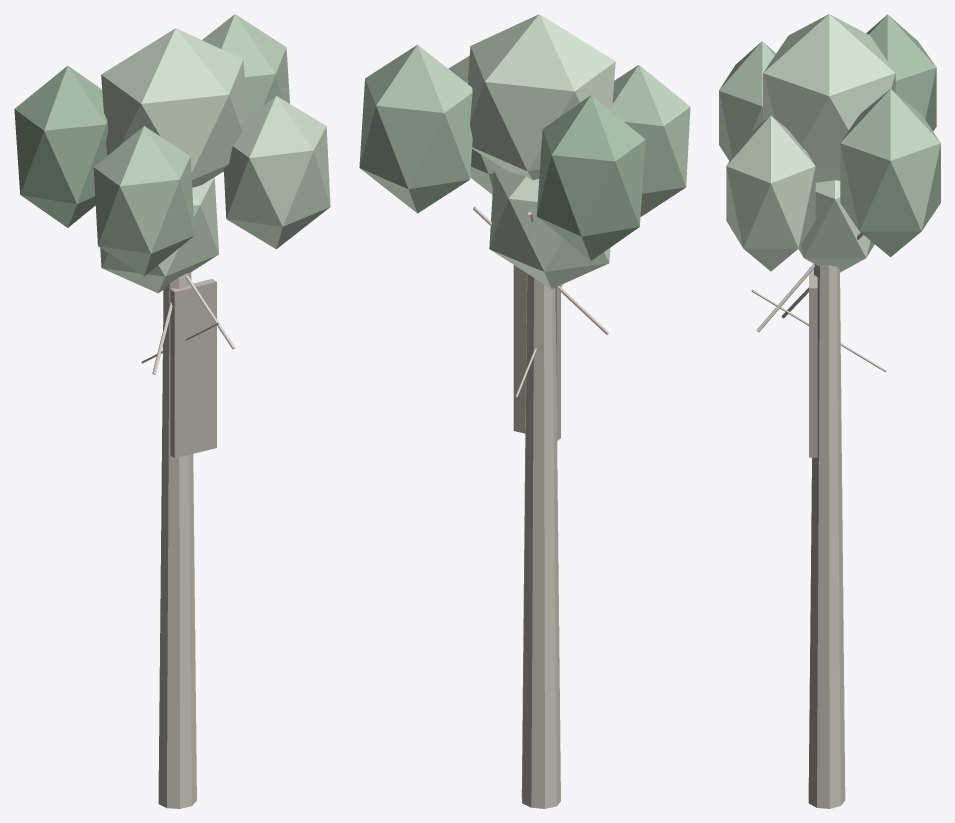
The model's file is TREE_EUCALYPTUS_001_v002_LOD_GAMEPLAY.glb.
The picture shows the model from 3 angles, left to right: view 1: azimuth 30°, elevation 25°; view 2: azimuth 150°, elevation 25°; view 3: azimuth 270°, elevation 25°; orthographic projection. The views are drawn at different scales.
Visible parts, largest first — view 1: TREE_CANOPY_CORE_TOP_002_LOD_GAMEPLAY_EXPORT, TREE_TRUNK_EUCALYPTUS_002_LOD_GAMEPLAY_EXPORT, TREE_CANOPY_FRONT_RIGHT_002_LOD_GAMEPLAY_EXPORT, TREE_CANOPY_FRONT_LEFT_002_LOD_GAMEPLAY_EXPORT, TREE_CANOPY_REAR_LEFT_002_LOD_GAMEPLAY_EXPORT, TREE_BARK_SHADOW_PANEL_A_LOD_GAMEPLAY_EXPORT, TREE_CANOPY_REAR_RIGHT_002_LOD_GAMEPLAY_EXPORT, TREE_CANOPY_MID_DROP_002_LOD_GAMEPLAY_EXPORT; view 2: TREE_TRUNK_EUCALYPTUS_002_LOD_GAMEPLAY_EXPORT, TREE_CANOPY_CORE_TOP_002_LOD_GAMEPLAY_EXPORT, TREE_CANOPY_REAR_RIGHT_002_LOD_GAMEPLAY_EXPORT, TREE_CANOPY_REAR_LEFT_002_LOD_GAMEPLAY_EXPORT, TREE_CANOPY_FRONT_LEFT_002_LOD_GAMEPLAY_EXPORT, TREE_CANOPY_MID_DROP_002_LOD_GAMEPLAY_EXPORT, TREE_BARK_SHADOW_PANEL_A_LOD_GAMEPLAY_EXPORT, TREE_CANOPY_FRONT_RIGHT_002_LOD_GAMEPLAY_EXPORT; view 3: TREE_TRUNK_EUCALYPTUS_002_LOD_GAMEPLAY_EXPORT, TREE_CANOPY_CORE_TOP_002_LOD_GAMEPLAY_EXPORT, TREE_CANOPY_REAR_RIGHT_002_LOD_GAMEPLAY_EXPORT, TREE_CANOPY_FRONT_RIGHT_002_LOD_GAMEPLAY_EXPORT, TREE_CANOPY_REAR_LEFT_002_LOD_GAMEPLAY_EXPORT, TREE_CANOPY_MID_DROP_002_LOD_GAMEPLAY_EXPORT, TREE_CANOPY_FRONT_LEFT_002_LOD_GAMEPLAY_EXPORT, TREE_BARK_SHADOW_PANEL_A_LOD_GAMEPLAY_EXPORT.
Boxes of the visible parts, bbox=[...] form: TREE_CANOPY_CORE_TOP_002_LOD_GAMEPLAY_EXPORT: bbox=[101, 28, 247, 187]; TREE_TRUNK_EUCALYPTUS_002_LOD_GAMEPLAY_EXPORT: bbox=[158, 272, 196, 808]; TREE_CANOPY_FRONT_RIGHT_002_LOD_GAMEPLAY_EXPORT: bbox=[223, 96, 330, 249]; TREE_CANOPY_FRONT_LEFT_002_LOD_GAMEPLAY_EXPORT: bbox=[93, 126, 194, 276]; TREE_CANOPY_REAR_LEFT_002_LOD_GAMEPLAY_EXPORT: bbox=[14, 65, 107, 227]; TREE_BARK_SHADOW_PANEL_A_LOD_GAMEPLAY_EXPORT: bbox=[170, 279, 216, 458]; TREE_CANOPY_REAR_RIGHT_002_LOD_GAMEPLAY_EXPORT: bbox=[202, 14, 289, 172]; TREE_CANOPY_MID_DROP_002_LOD_GAMEPLAY_EXPORT: bbox=[100, 177, 218, 293]; TREE_TRUNK_EUCALYPTUS_002_LOD_GAMEPLAY_EXPORT: bbox=[521, 273, 560, 808]; TREE_CANOPY_CORE_TOP_002_LOD_GAMEPLAY_EXPORT: bbox=[467, 14, 615, 179]; TREE_CANOPY_REAR_RIGHT_002_LOD_GAMEPLAY_EXPORT: bbox=[359, 44, 472, 213]; TREE_CANOPY_REAR_LEFT_002_LOD_GAMEPLAY_EXPORT: bbox=[536, 95, 645, 260]; TREE_CANOPY_FRONT_LEFT_002_LOD_GAMEPLAY_EXPORT: bbox=[612, 65, 690, 216]; TREE_CANOPY_MID_DROP_002_LOD_GAMEPLAY_EXPORT: bbox=[489, 167, 610, 288]; TREE_BARK_SHADOW_PANEL_A_LOD_GAMEPLAY_EXPORT: bbox=[513, 265, 560, 440]; TREE_CANOPY_FRONT_RIGHT_002_LOD_GAMEPLAY_EXPORT: bbox=[448, 56, 500, 194]; TREE_TRUNK_EUCALYPTUS_002_LOD_GAMEPLAY_EXPORT: bbox=[808, 264, 845, 808]; TREE_CANOPY_CORE_TOP_002_LOD_GAMEPLAY_EXPORT: bbox=[763, 14, 895, 182]; TREE_CANOPY_REAR_RIGHT_002_LOD_GAMEPLAY_EXPORT: bbox=[840, 89, 940, 257]; TREE_CANOPY_FRONT_RIGHT_002_LOD_GAMEPLAY_EXPORT: bbox=[726, 115, 815, 271]; TREE_CANOPY_REAR_LEFT_002_LOD_GAMEPLAY_EXPORT: bbox=[866, 14, 936, 131]; TREE_CANOPY_MID_DROP_002_LOD_GAMEPLAY_EXPORT: bbox=[798, 180, 874, 272]; TREE_CANOPY_FRONT_LEFT_002_LOD_GAMEPLAY_EXPORT: bbox=[719, 41, 775, 160]; TREE_BARK_SHADOW_PANEL_A_LOD_GAMEPLAY_EXPORT: bbox=[809, 267, 817, 457].
Size of the model in its own units: 2.16 by 5.95 by 1.52.
